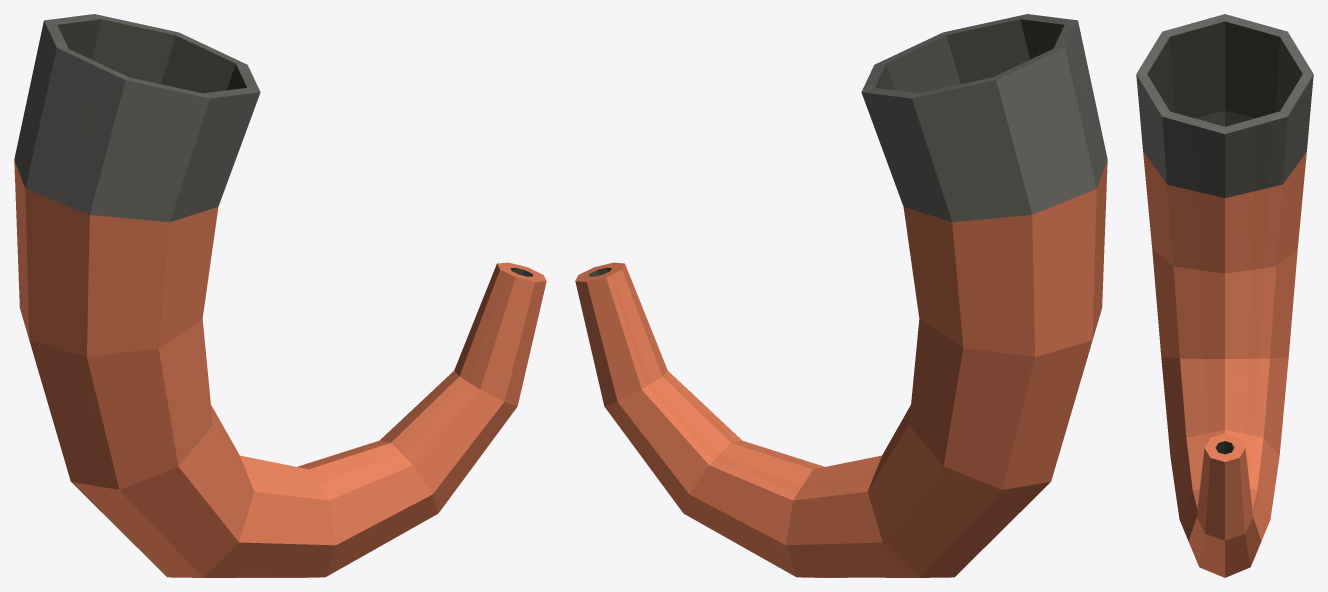
Rendered from tooting_copper_horn.obj.
3 views of the same model, side by side, from view 1: azimuth 30°, elevation 25°; view 2: azimuth 150°, elevation 25°; view 3: azimuth 270°, elevation 25° (orthographic). The views are drawn at different scales.
Size of the model in its own units: 0.6311 by 0.6869 by 0.2437.
